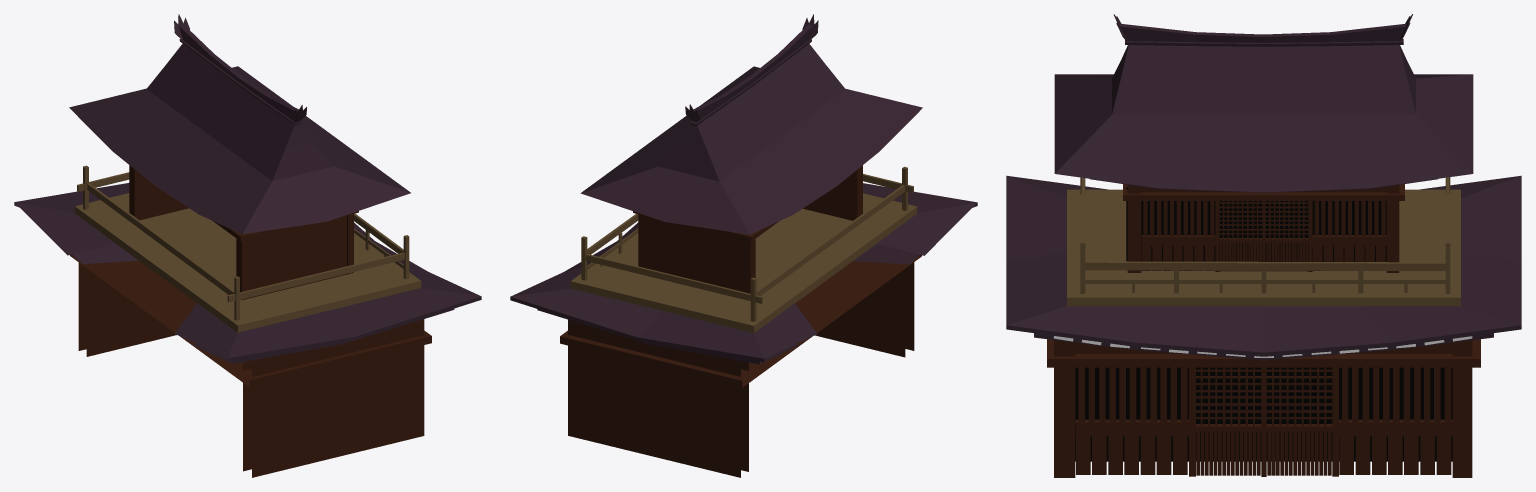
Rendered from BigHouse1.fbx.
3 renders of one model, left to right at view 1: azimuth 30°, elevation 25°; view 2: azimuth 150°, elevation 25°; view 3: azimuth 270°, elevation 25°, orthographic. The views are drawn at different scales.
Parts seen in each view (by area): view 1: Cube.166; view 2: Cube.166; view 3: Cube.166.
Part boxes in pixels (bbox=[...]): Cube.166: bbox=[14, 14, 481, 477]; Cube.166: bbox=[510, 14, 977, 477]; Cube.166: bbox=[1006, 14, 1521, 477].
Bounding box in the file's own units: 5089 × 6462 × 7408.
